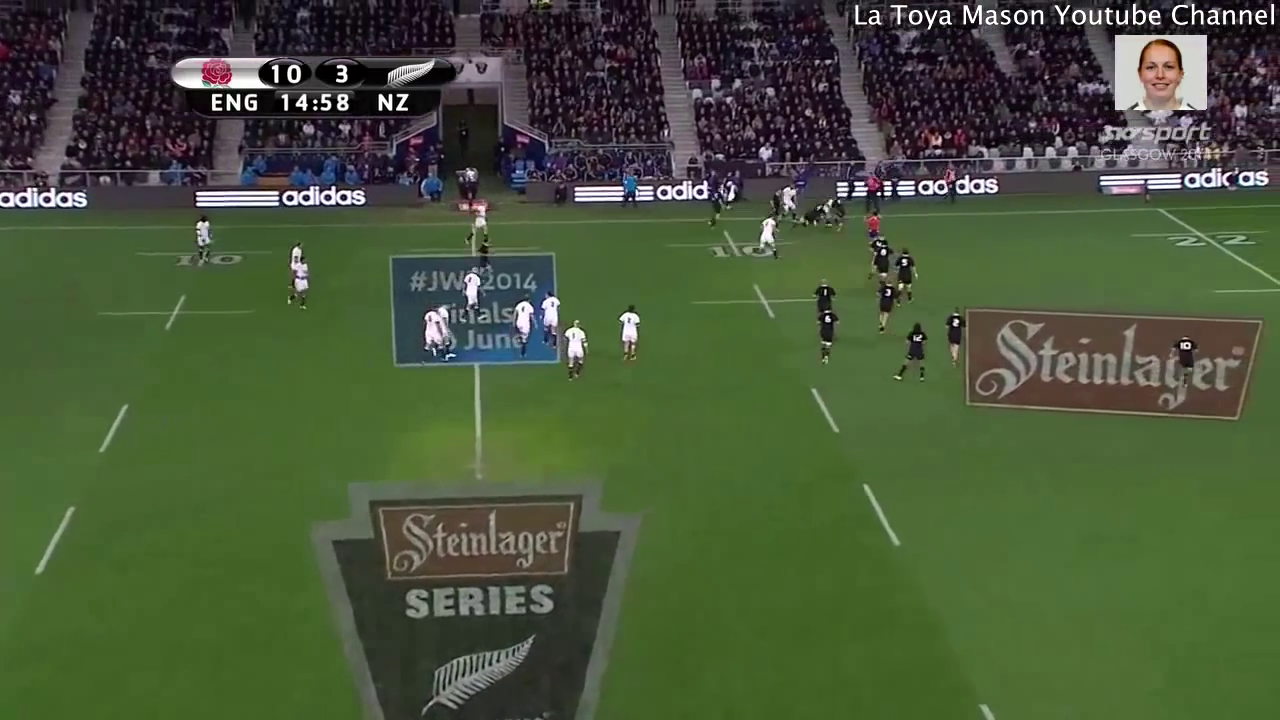10_metre: (91, 290, 258, 333), (687, 281, 843, 322), (132, 233, 282, 271), (661, 231, 795, 263)
player: (891, 320, 929, 387), (890, 246, 922, 308), (560, 318, 590, 383), (940, 304, 968, 370), (421, 304, 451, 364), (283, 255, 313, 313), (512, 291, 536, 363), (616, 302, 642, 364), (815, 304, 841, 366), (1171, 333, 1199, 390), (538, 287, 563, 350), (461, 266, 487, 325), (872, 275, 895, 336), (754, 215, 784, 260), (192, 210, 217, 262), (465, 198, 490, 245), (811, 280, 836, 321), (706, 186, 726, 231), (860, 209, 883, 243), (875, 241, 892, 282), (780, 183, 798, 220), (767, 186, 784, 225), (475, 236, 492, 274), (869, 233, 884, 273), (288, 238, 303, 276), (799, 204, 824, 225), (437, 302, 452, 336), (830, 197, 847, 222)
ruck: (801, 199, 849, 233)
